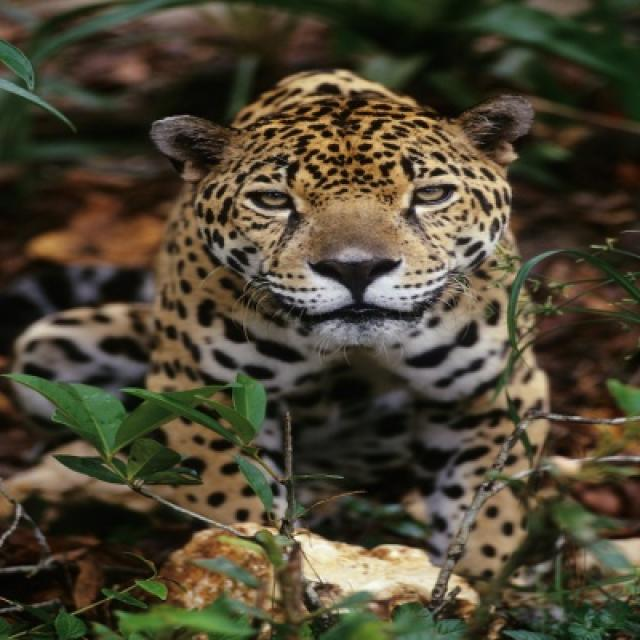Jaguar: (13, 72, 548, 597)
